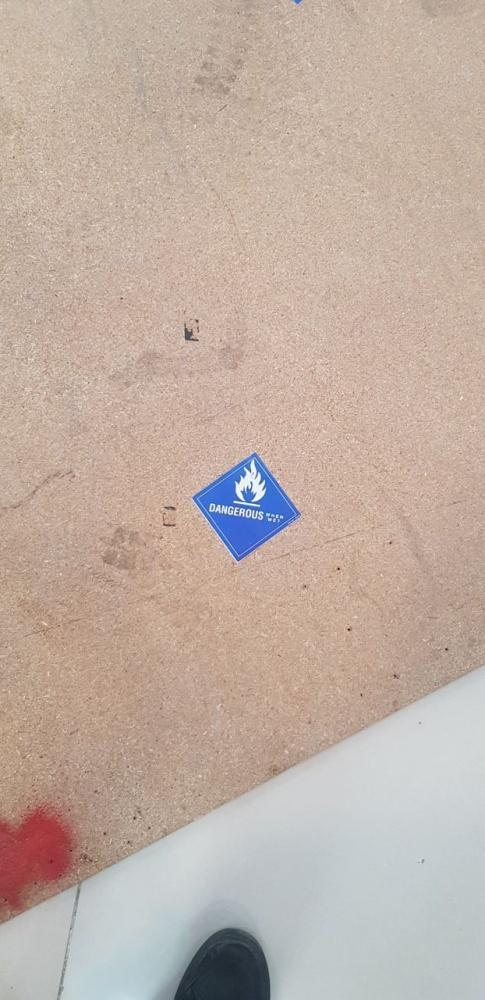dangerous-when-wet: (190, 452, 302, 561)
